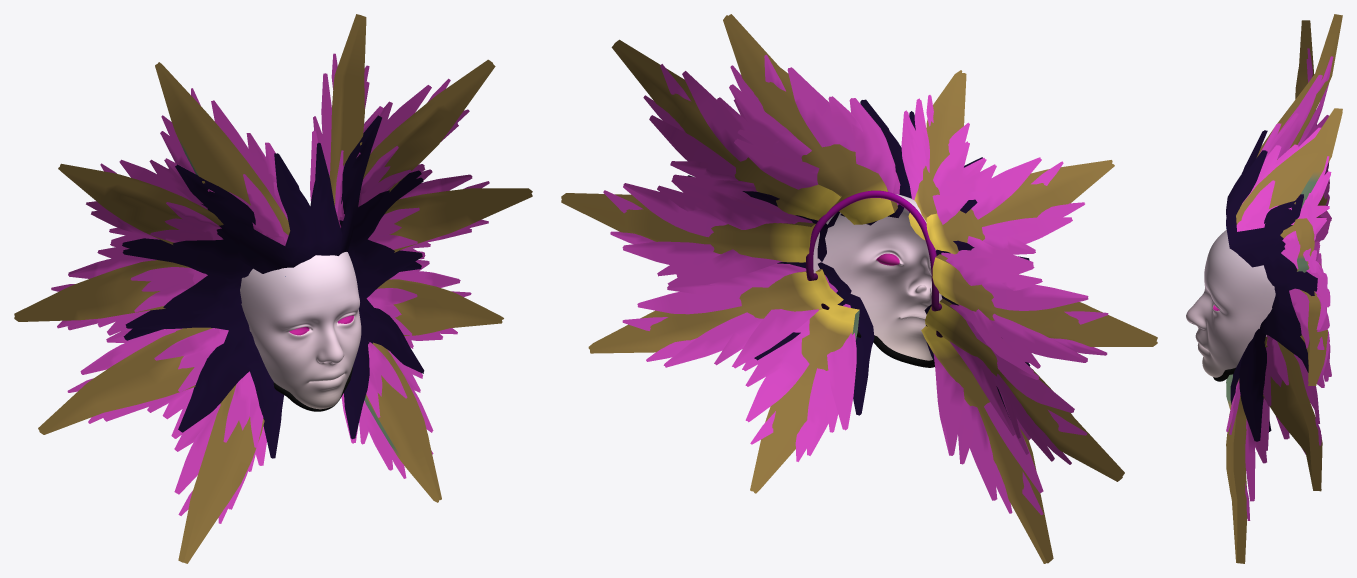
File: Mask_Normal5.glb
3 renders of one model, left to right at view 1: azimuth 30°, elevation 25°; view 2: azimuth 150°, elevation 25°; view 3: azimuth 270°, elevation 25°, orthographic. The views are drawn at different scales.
Parts seen in each view (by area): view 1: BézierCurve.001, Female Average Head; view 2: BézierCurve.001, Female Average Head; view 3: BézierCurve.001, Female Average Head.
Part boxes in pixels (bbox=[...]): BézierCurve.001: bbox=[14, 14, 532, 563]; Female Average Head: bbox=[240, 252, 361, 411]; BézierCurve.001: bbox=[561, 14, 1157, 563]; Female Average Head: bbox=[806, 190, 942, 367]; BézierCurve.001: bbox=[1226, 14, 1342, 563]; Female Average Head: bbox=[1186, 230, 1275, 381].
Bounding box in the file's own units: 0.6544 × 0.5562 × 0.1782.
Materials: 2 (2 with a texture image).
